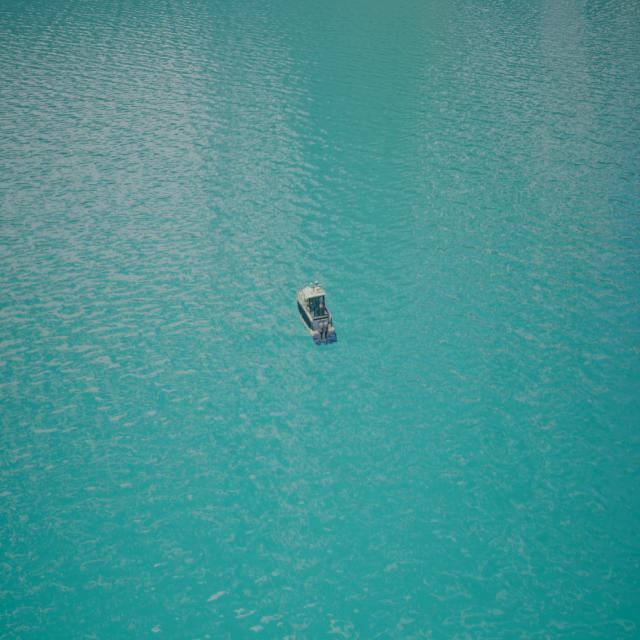ship: (296, 276, 339, 348)
